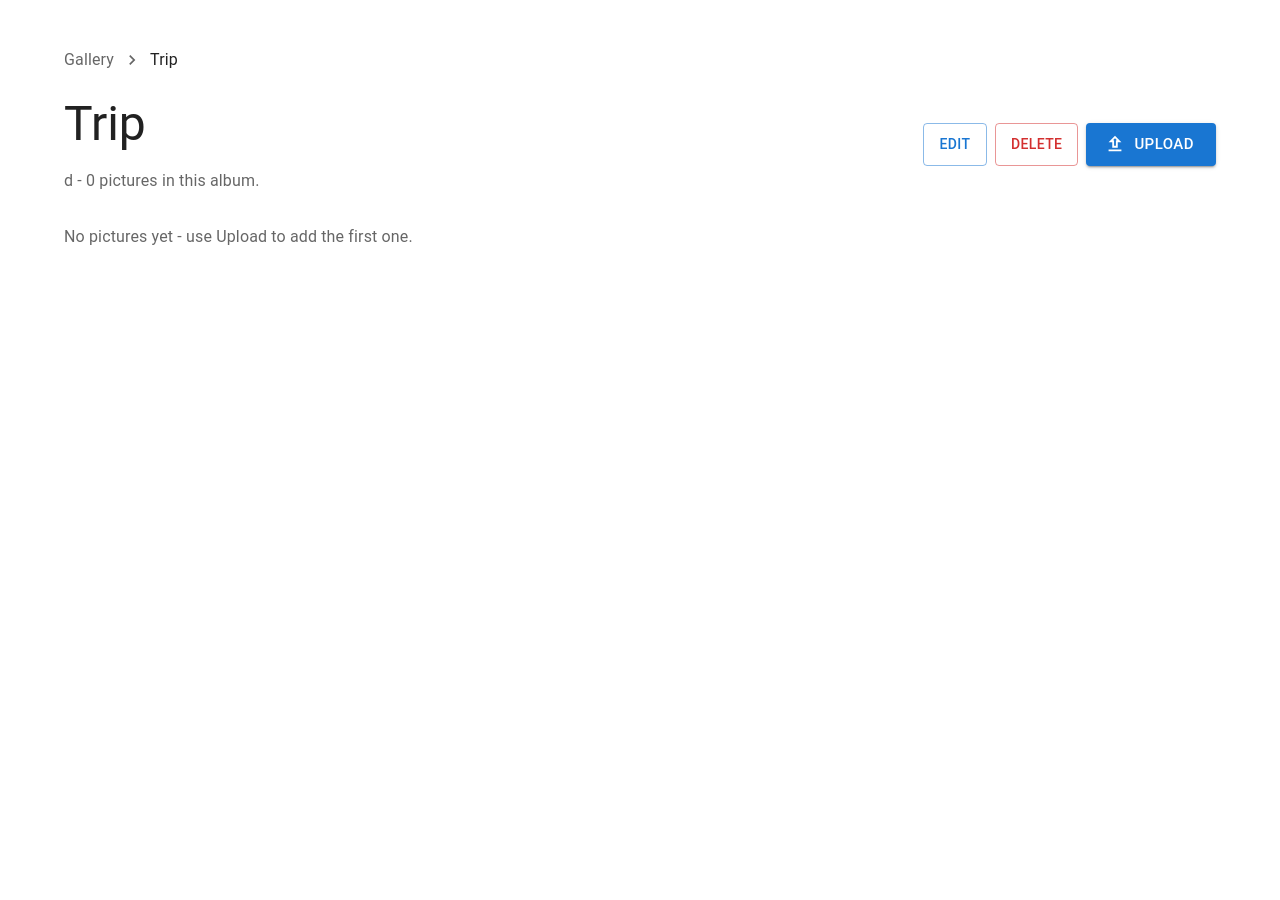
Scenario: gallery owner controls › offers album edit and delete to owners
Expected: the button with test id "edit-album-btn" is shown, [923,123,987,166]
Click the button with test id "delete-album-btn" at (1037, 144), box [995,123,1078,166]
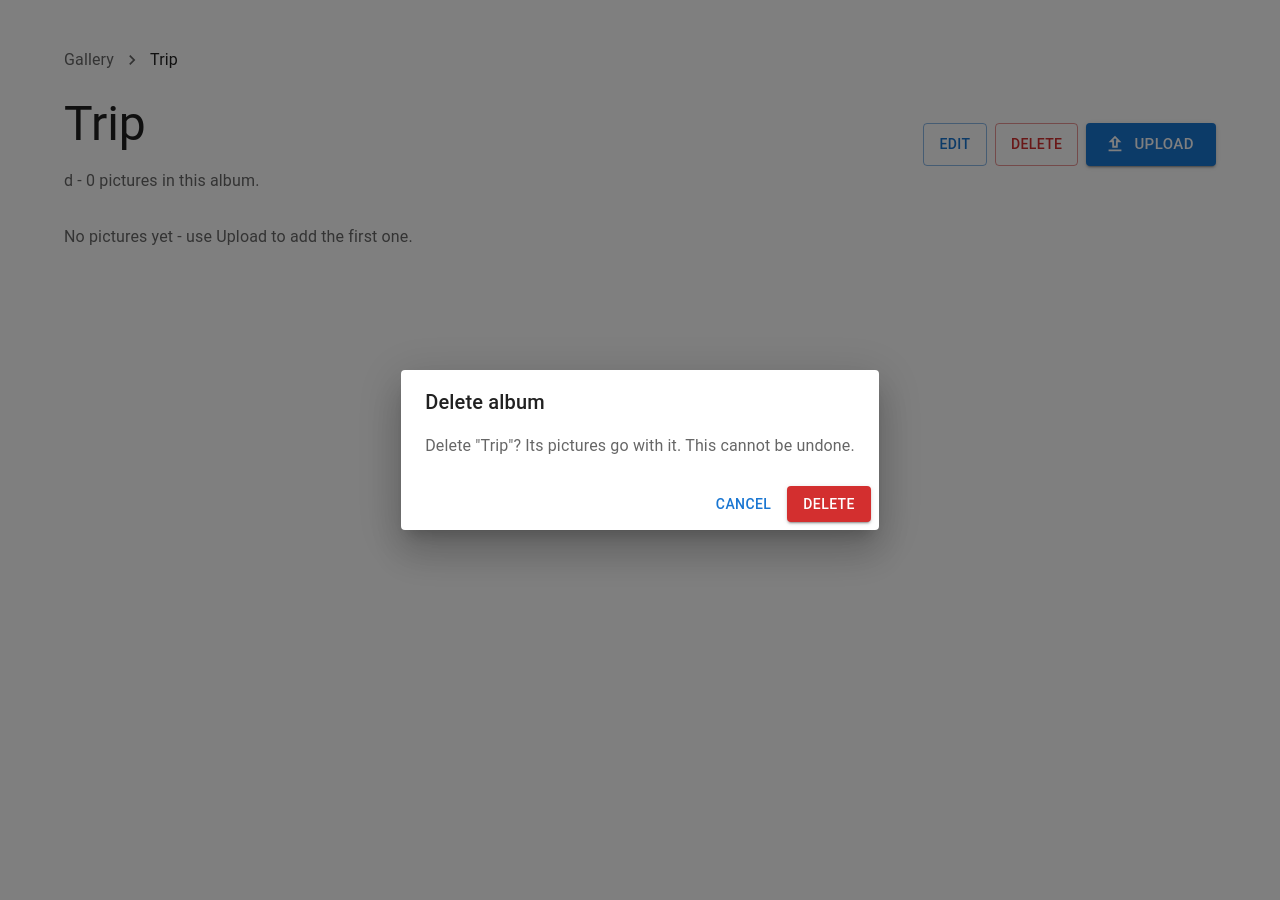
Expected: the element with test id "gallery-delete-dialog" is shown
